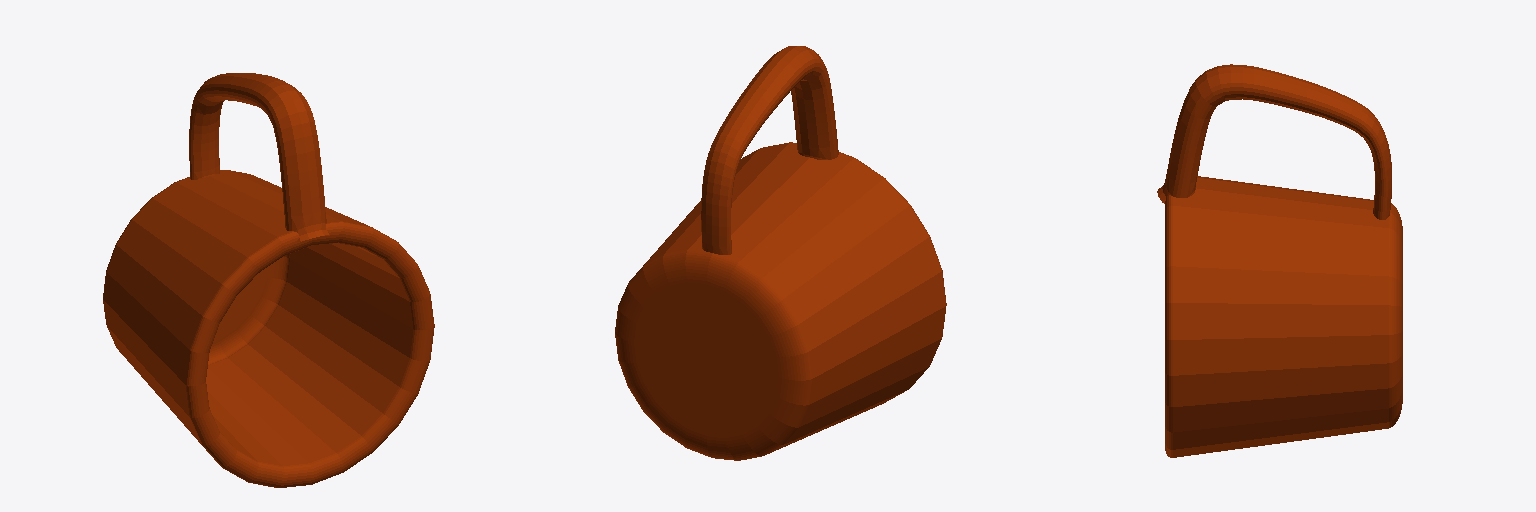
The picture shows the model from 3 angles: view 1: azimuth 30°, elevation 25°; view 2: azimuth 150°, elevation 25°; view 3: azimuth 270°, elevation 25°; orthographic projection.
Visible parts, largest first — view 1: instance_cup_0; view 2: instance_cup_0; view 3: instance_cup_0.
Part boxes in pixels (left/top/right/bottom): instance_cup_0: left=103, top=73, right=434, bottom=487; instance_cup_0: left=615, top=46, right=946, bottom=460; instance_cup_0: left=1157, top=64, right=1402, bottom=457.
Size of the model in its own units: 0.073 by 0.1063 by 0.0626.